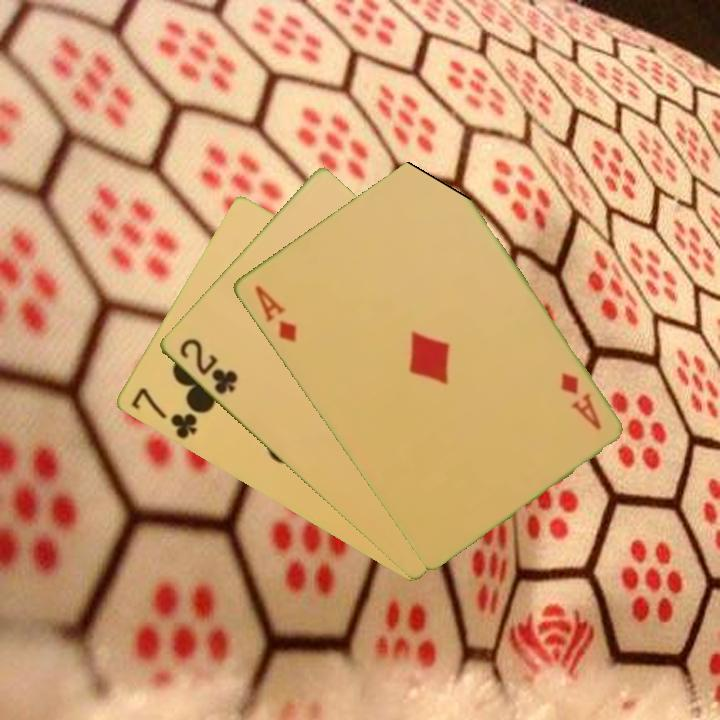2c: (175, 334, 240, 398)
7c: (127, 384, 200, 443)
Ad: (250, 281, 299, 346), (556, 369, 604, 433)
